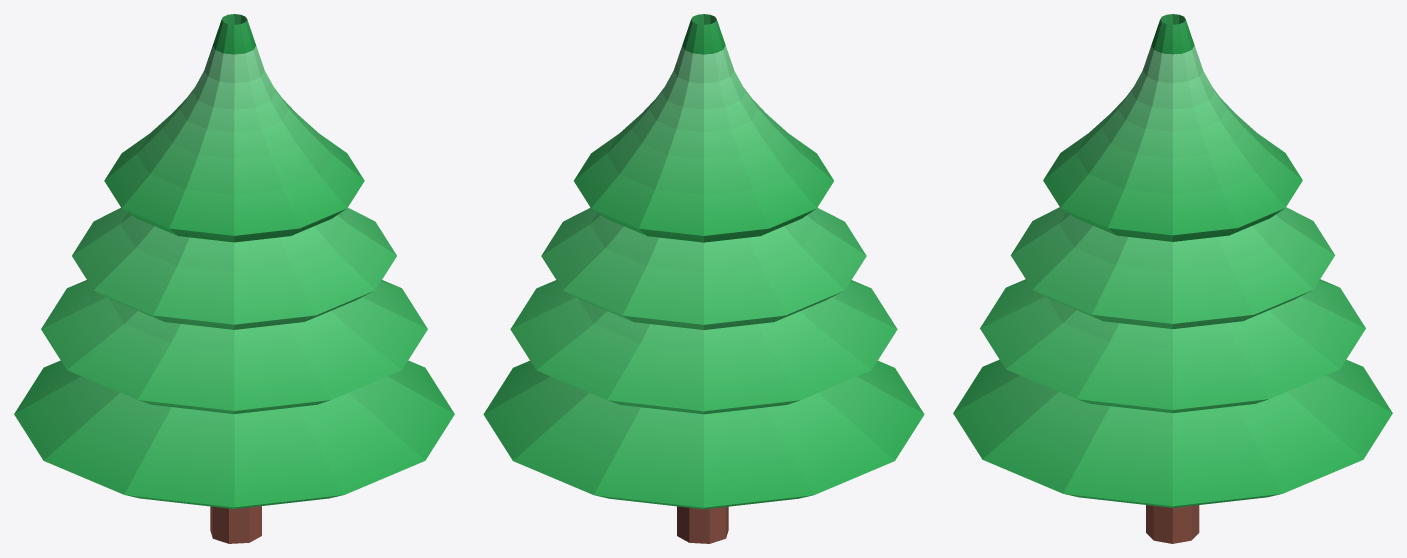
File: christmastree.fbx
3 views of the same model, side by side, from view 1: azimuth 30°, elevation 25°; view 2: azimuth 150°, elevation 25°; view 3: azimuth 270°, elevation 25° (orthographic).
Visible parts, largest first — view 1: 圓柱體.091; view 2: 圓柱體.091; view 3: 圓柱體.091.
Boxes of the visible parts, bbox=[...] form: 圓柱體.091: bbox=[14, 14, 454, 543]; 圓柱體.091: bbox=[483, 14, 924, 543]; 圓柱體.091: bbox=[953, 14, 1392, 543].
Bounding box in the file's own units: 2469 × 3175 × 2469.
Materials: 2 (1 with a texture image).
